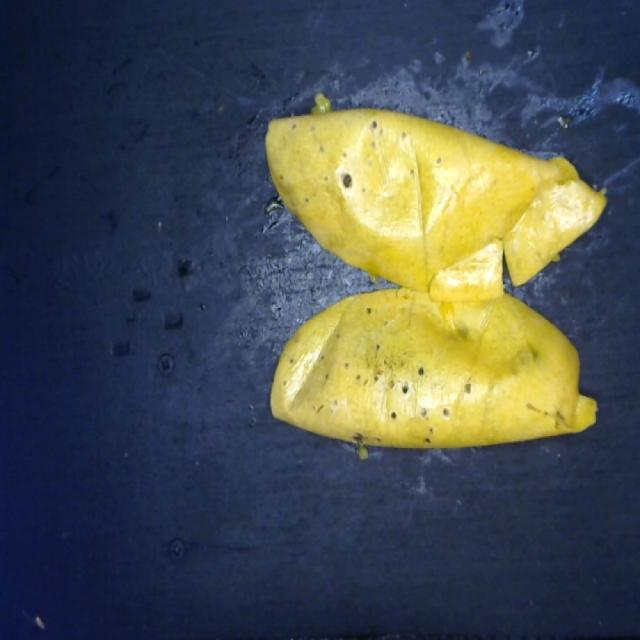biodegradable: (260, 103, 610, 453)
